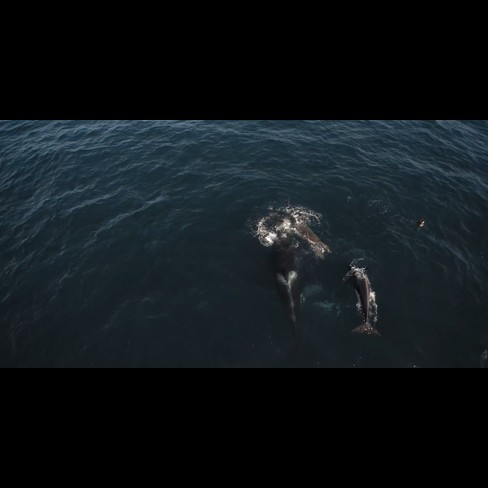orca: (259, 232, 316, 348), (338, 251, 385, 345)
